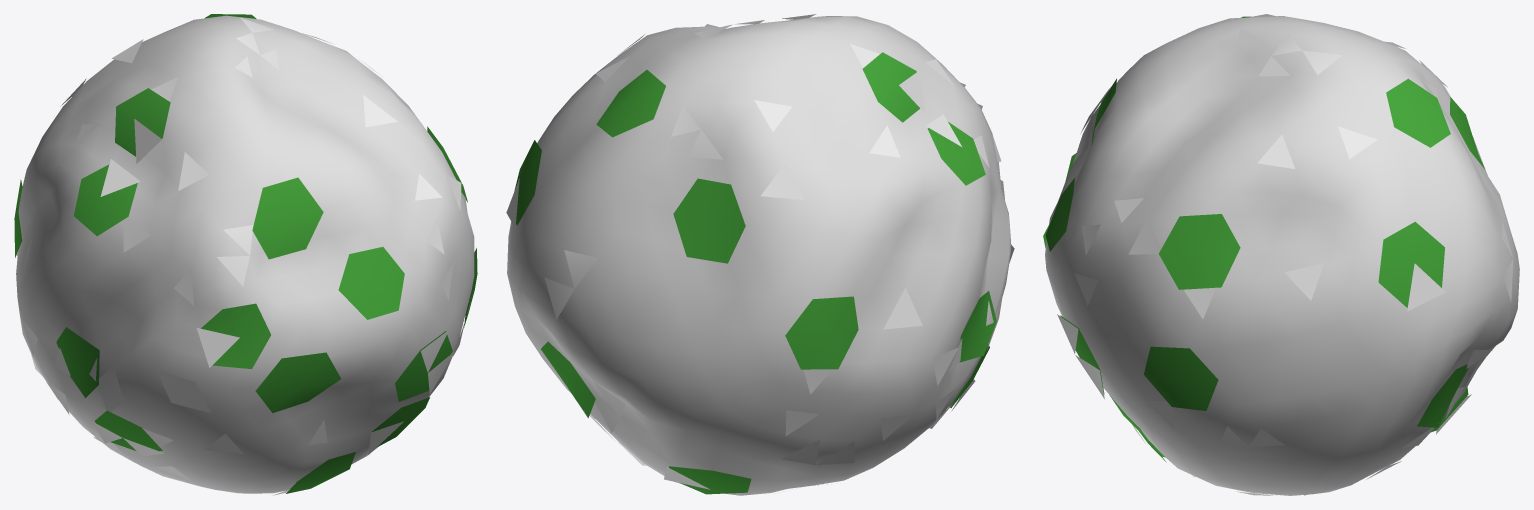
File: sm_planetexcent.fbx
The picture shows the model from 3 angles, left to right: view 1: azimuth 30°, elevation 25°; view 2: azimuth 150°, elevation 25°; view 3: azimuth 270°, elevation 25°; orthographic projection. The views are drawn at different scales.
Visible parts, largest first — view 1: Icosphere; view 2: Icosphere; view 3: Icosphere.
Boxes of the visible parts, x1,y1,x2,y2 form: Icosphere: [14, 14, 477, 495]; Icosphere: [506, 14, 1014, 495]; Icosphere: [1043, 14, 1519, 495].
Bounding box in the file's own units: 302002 × 316597 × 311573.
